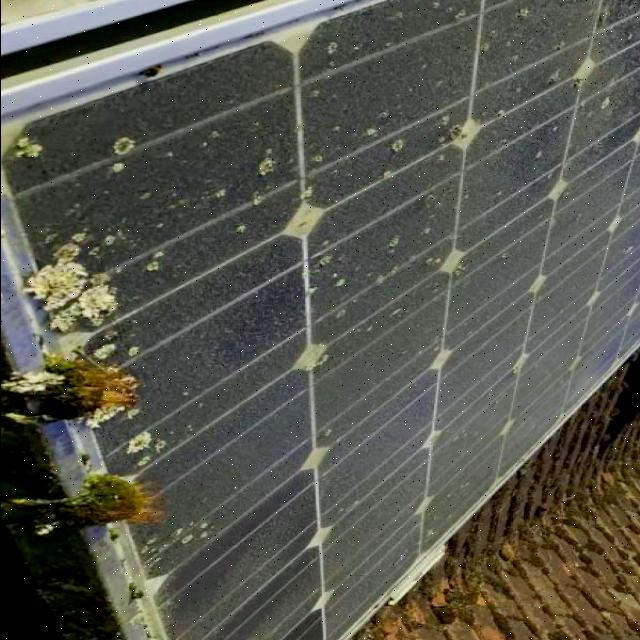Surface Contaminant: (0, 2, 640, 640)
